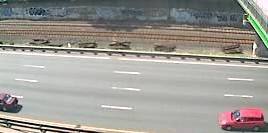car: (216, 106, 267, 133)
